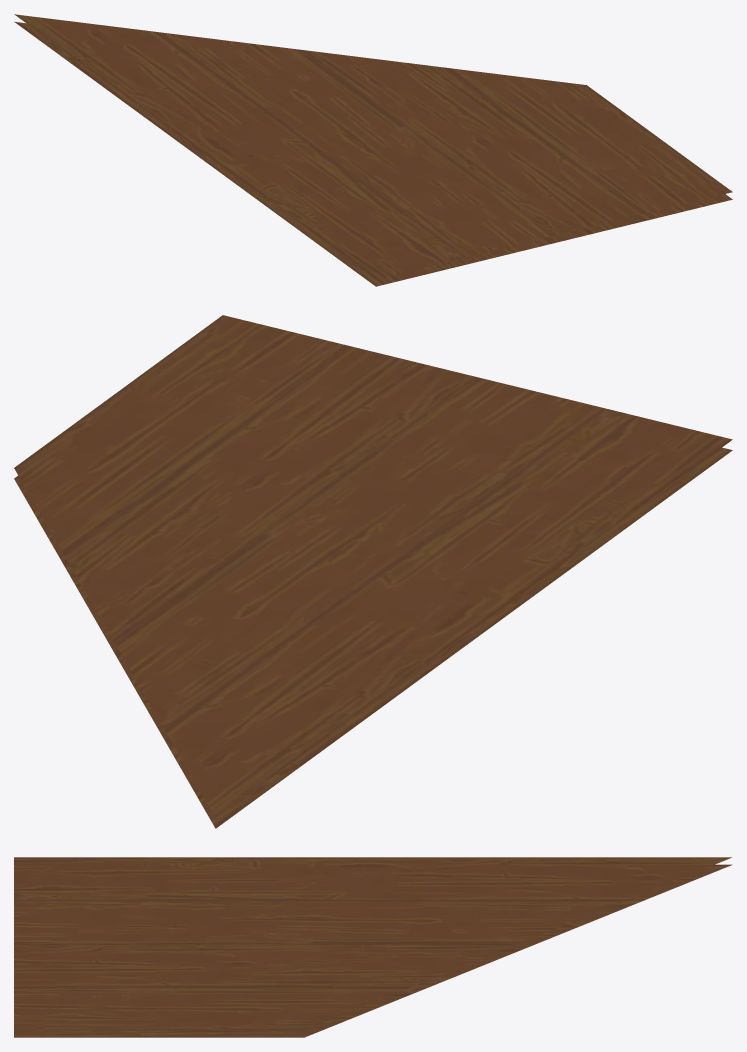
File: floor_wooddark_overhangcorner.glb
3 views of the same model, one above another, from view 1: azimuth 30°, elevation 25°; view 2: azimuth 150°, elevation 25°; view 3: azimuth 270°, elevation 25° (orthographic). The views are drawn at different scales.
Bounding box in the file's own units: 1 × 0.02 × 1.76.
1 material, 1 textured.
